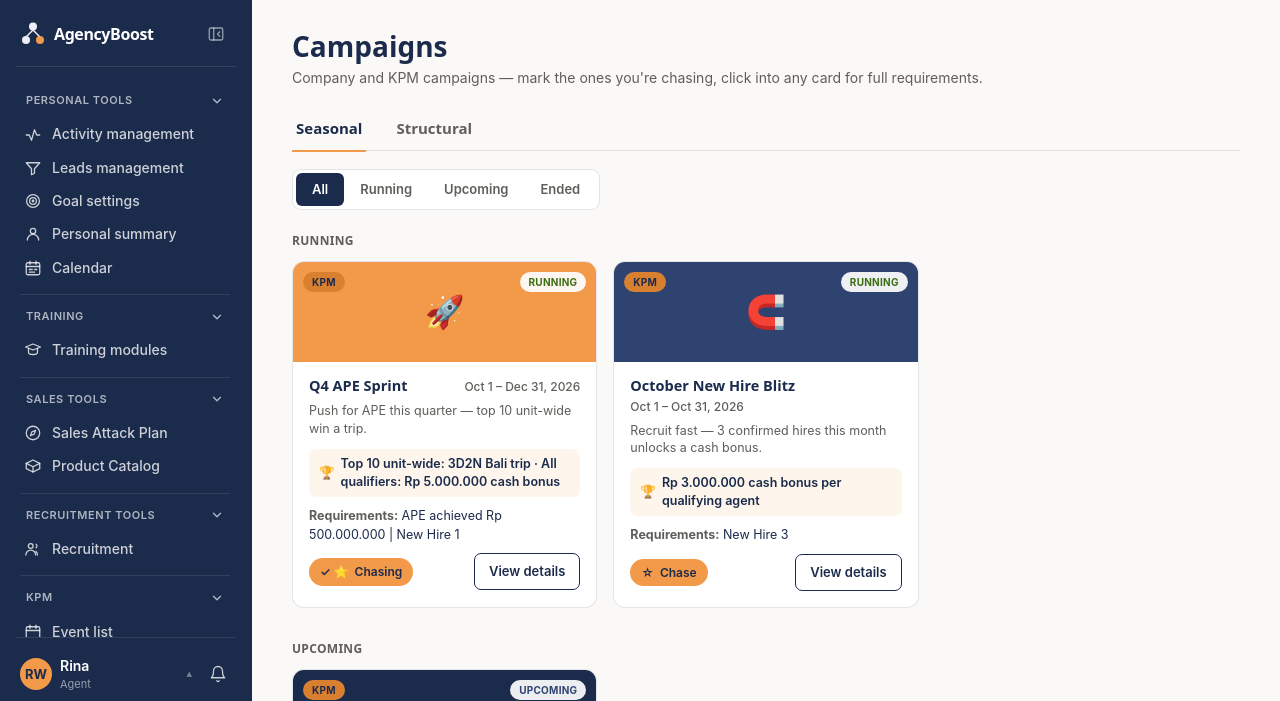
Test: /campaigns, the list (P18.5-T7) › the page, verbatim (AC-2) › P18.5-T7 AC-2 the structural sections, Promotion Criteria and Production Clubs, with no filter
Click the tab "Structural" at (434, 130), box [392,108,476,152]
(page scrolled)
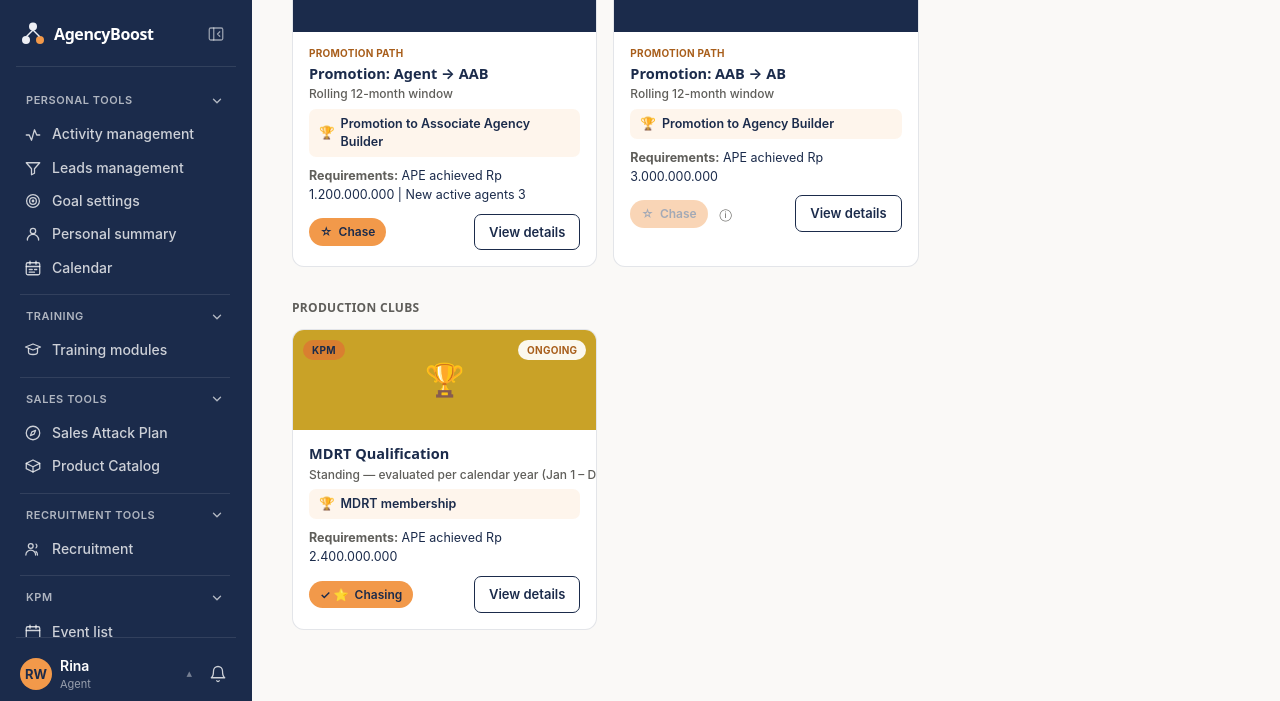
Now the element "MDRT Qualification" is shown, box [292,329,597,630]
